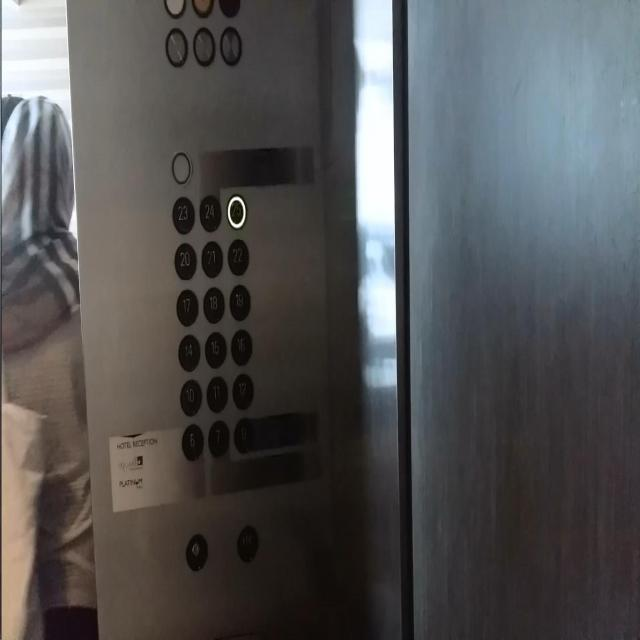10: (178, 377, 203, 419)
11: (204, 373, 230, 415)
12: (231, 372, 255, 413)
14: (176, 332, 202, 375)
15: (202, 328, 228, 370)
16: (229, 326, 254, 368)
17: (174, 286, 200, 328)
18: (201, 284, 225, 326)
19: (227, 282, 252, 323)
20: (173, 240, 197, 282)
21: (200, 238, 224, 280)
22: (226, 234, 250, 277)
23: (170, 193, 196, 236)
24: (197, 190, 223, 234)
25: (224, 191, 248, 233)
6: (179, 421, 204, 464)
7: (206, 416, 230, 460)
9: (231, 417, 255, 454)
close: (235, 522, 260, 564)
empty: (190, 24, 216, 67), (218, 23, 243, 66), (164, 23, 188, 67), (168, 147, 192, 188)
open: (183, 531, 210, 574)
